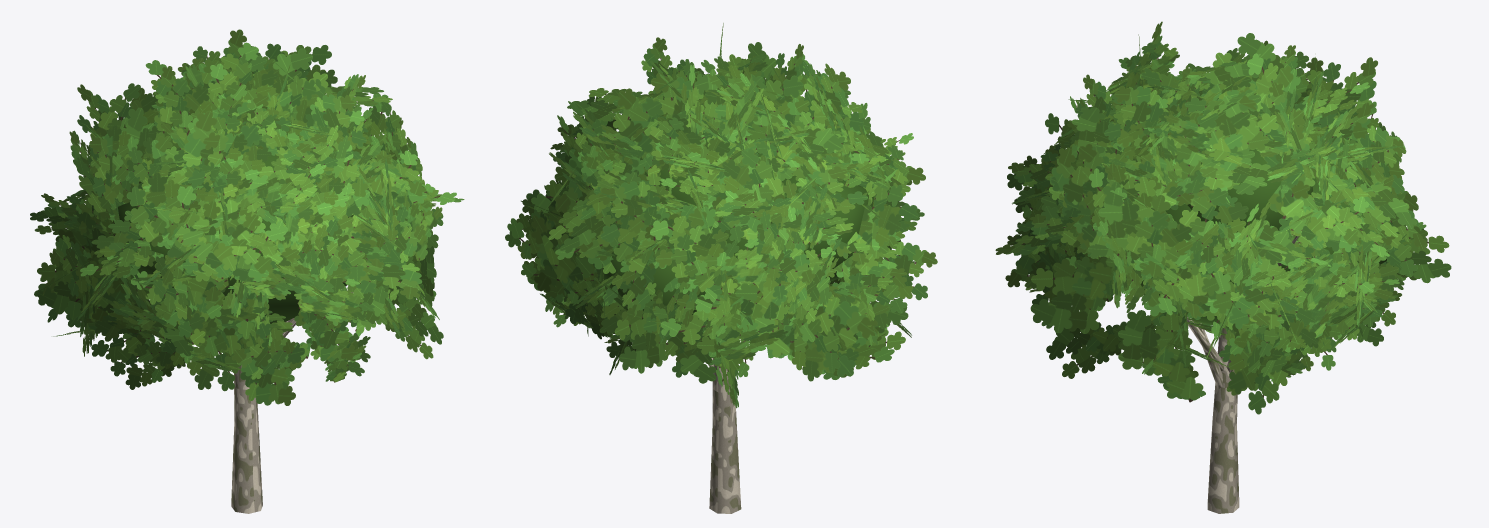
Rendered from ACER_1.glb.
3 renders of one model, left to right at view 1: azimuth 30°, elevation 25°; view 2: azimuth 150°, elevation 25°; view 3: azimuth 270°, elevation 25°, orthographic. The views are drawn at different scales.
Visible parts, largest first — view 1: Arv_ACER_lod1; view 2: Arv_ACER_lod1; view 3: Arv_ACER_lod1.
Boxes of the visible parts, x1,y1,x2,y2 form: Arv_ACER_lod1: (30, 29, 464, 513); Arv_ACER_lod1: (505, 23, 937, 513); Arv_ACER_lod1: (995, 21, 1451, 513).
Size of the model in its own units: 10.19 by 10.89 by 10.26.
Materials: 3 (2 with a texture image).
